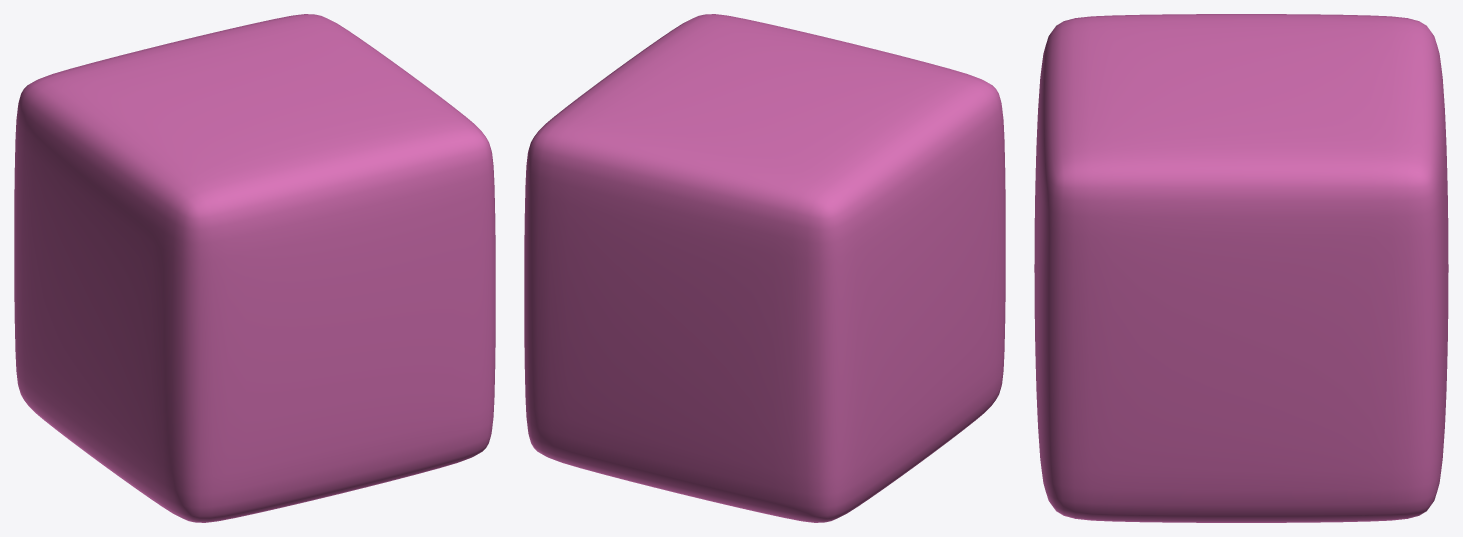
File: PillowBackStop.fbx
The picture shows the model from 3 angles, left to right: view 1: azimuth 30°, elevation 25°; view 2: azimuth 150°, elevation 25°; view 3: azimuth 270°, elevation 25°; orthographic projection. The views are drawn at different scales.
Visible parts, largest first — view 1: PillowBackStop; view 2: PillowBackStop; view 3: PillowBackStop.
Part boxes in pixels (box(x1,y1,x2,y2)): PillowBackStop: box(14, 14, 495, 522); PillowBackStop: box(524, 14, 1005, 522); PillowBackStop: box(1034, 14, 1448, 522).
Bounding box in the file's own units: 198 × 198 × 198.
